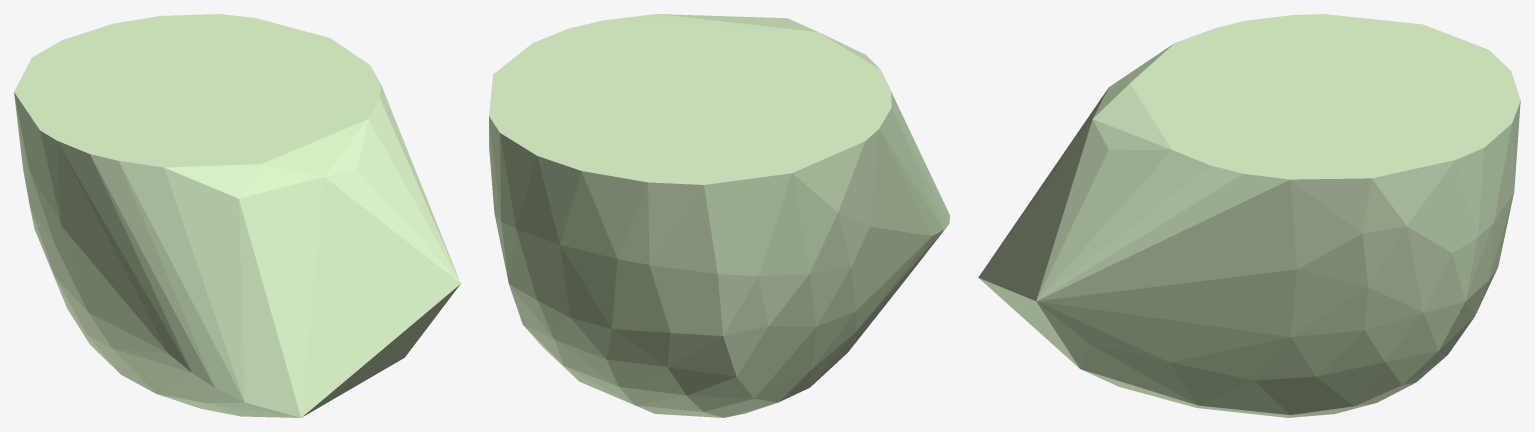
The model's file is kuka_URDF_link5_resp_coll_2.dae.
The picture shows the model from 3 angles, left to right: view 1: azimuth 30°, elevation 25°; view 2: azimuth 150°, elevation 25°; view 3: azimuth 270°, elevation 25°; orthographic projection. The views are drawn at different scales.
Parts seen in each view (by area): view 1: Node_0000020FCC590AE0; view 2: Node_0000020FCC590AE0; view 3: Node_0000020FCC590AE0.
Boxes of the visible parts, <box> form: Node_0000020FCC590AE0: <box>14,14,460,417</box>; Node_0000020FCC590AE0: <box>489,14,949,417</box>; Node_0000020FCC590AE0: <box>978,14,1520,417</box>.
Size of the model in its own units: 0.1354 by 0.1149 by 0.1875.
